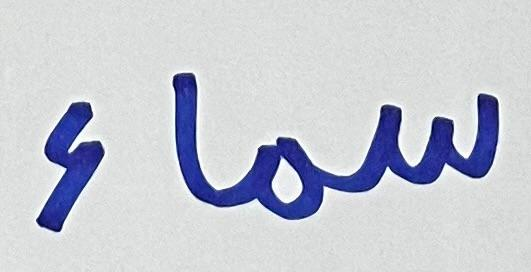alef: (165, 65, 211, 208)
hamza: (24, 86, 114, 236)
meem: (216, 133, 339, 222)
seen: (343, 87, 505, 210)
